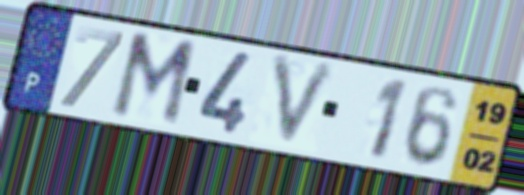1: (362, 76, 412, 162)
4: (195, 49, 253, 138)
6: (401, 83, 460, 171)
7: (58, 23, 127, 110)
M: (106, 29, 201, 131)
V: (269, 52, 343, 153)
